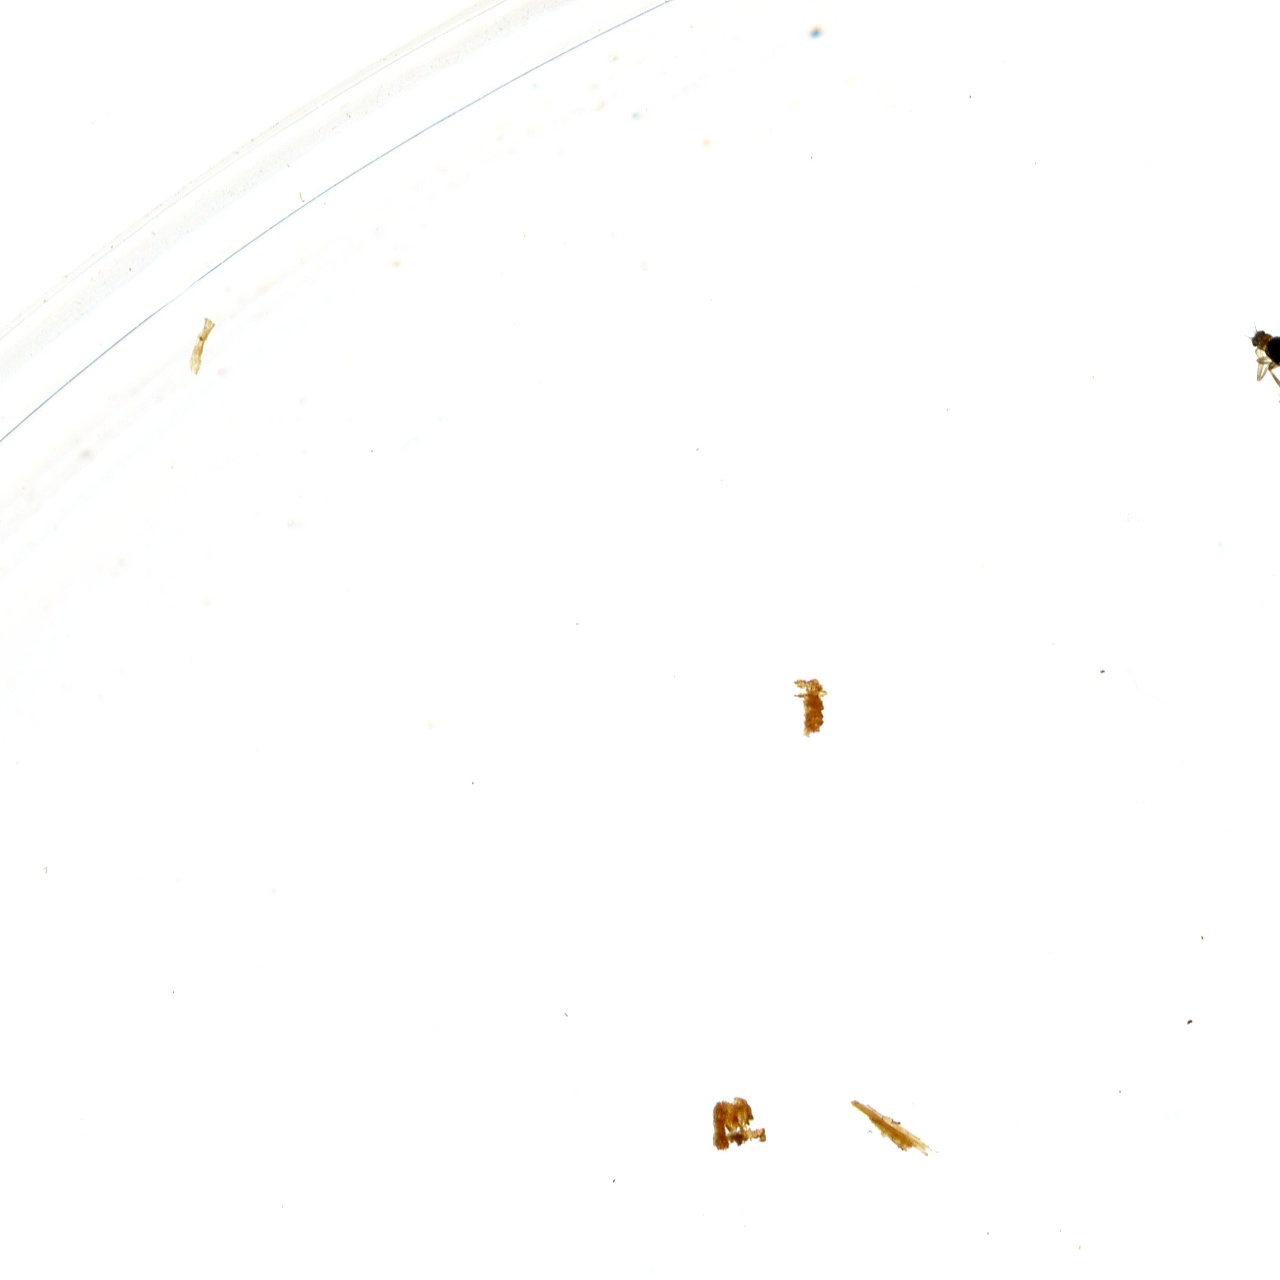arthropod: (1234, 313, 1280, 421)
